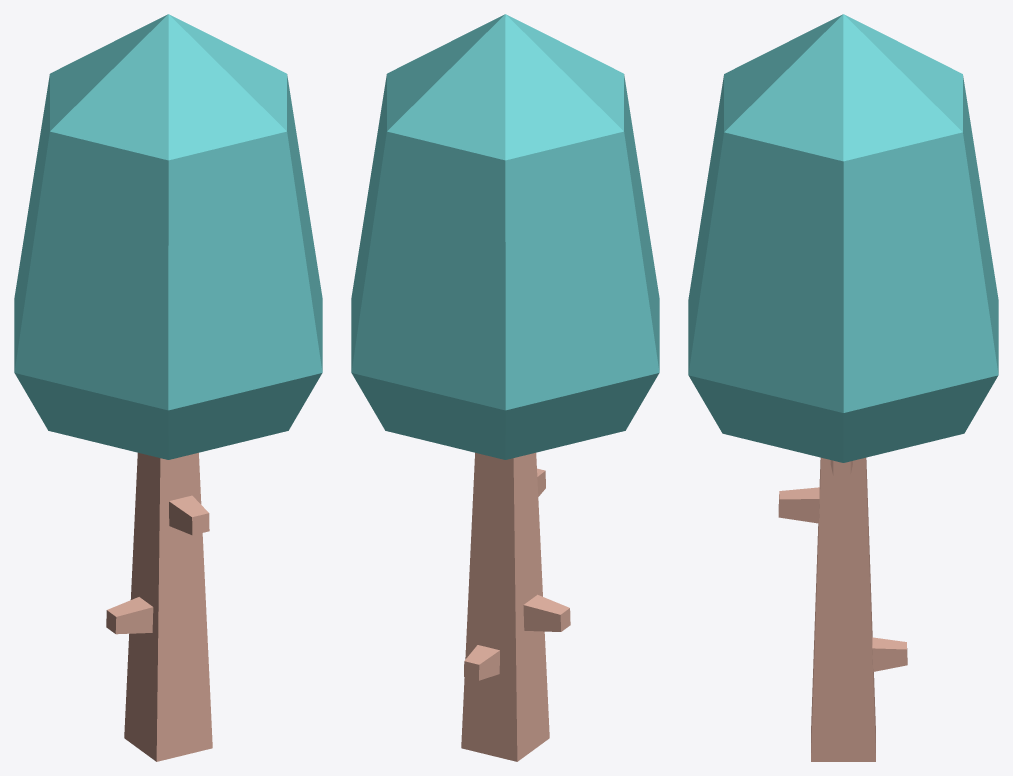
Rendered from tree_default_dark.gltf.
The picture shows the model from 3 angles, left to right: view 1: azimuth 30°, elevation 25°; view 2: azimuth 150°, elevation 25°; view 3: azimuth 270°, elevation 25°; orthographic projection.
Visible parts, largest first — view 1: tree_default_dark; view 2: tree_default_dark; view 3: tree_default_dark.
Part boxes in pixels (<box>): tree_default_dark: <box>14,14,322,761</box>; tree_default_dark: <box>351,14,659,761</box>; tree_default_dark: <box>688,14,998,761</box>.
Bounding box in the file's own units: 0.755 × 1.71 × 0.6538.
